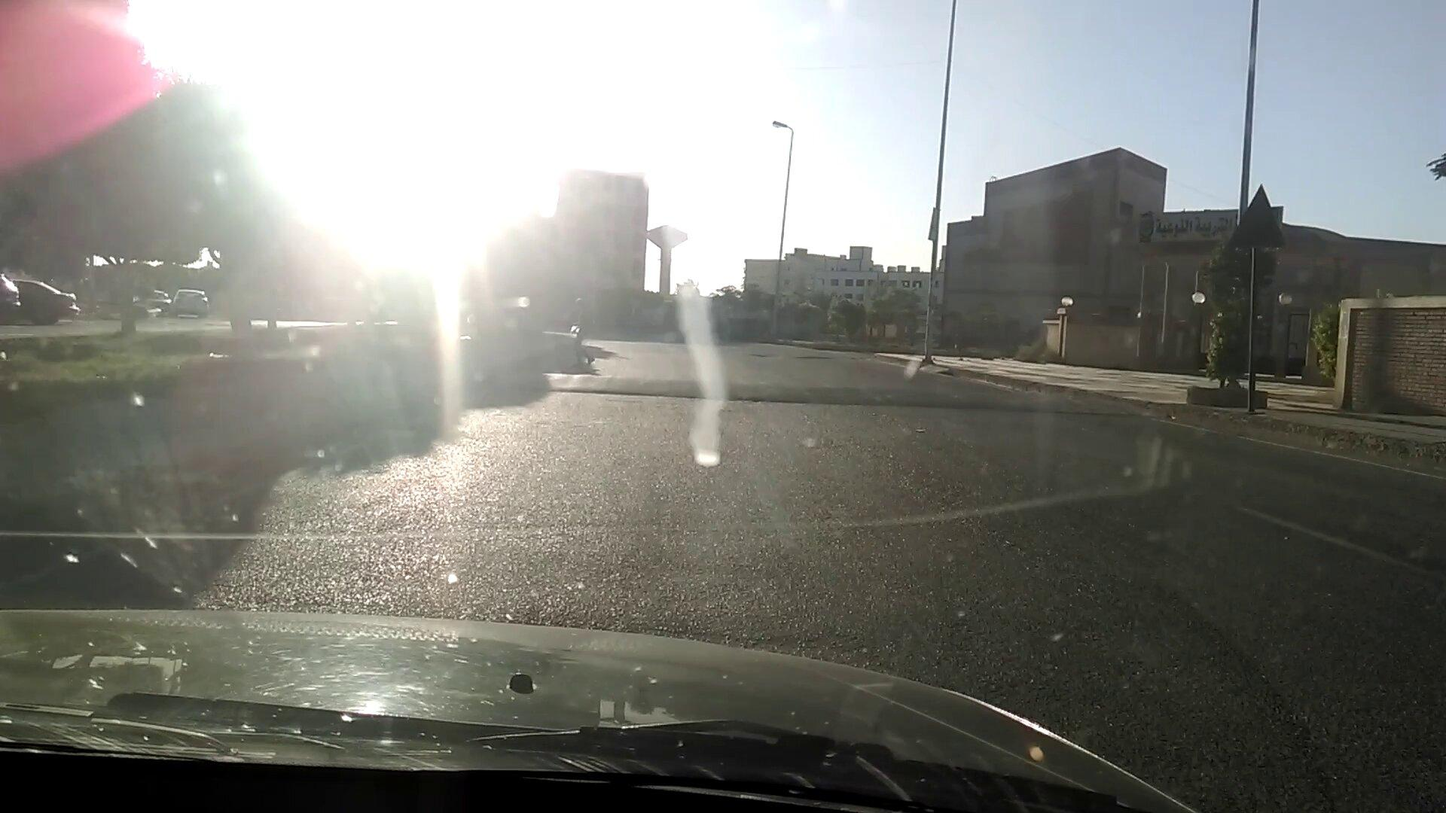Bump: (474, 370, 1150, 413)
